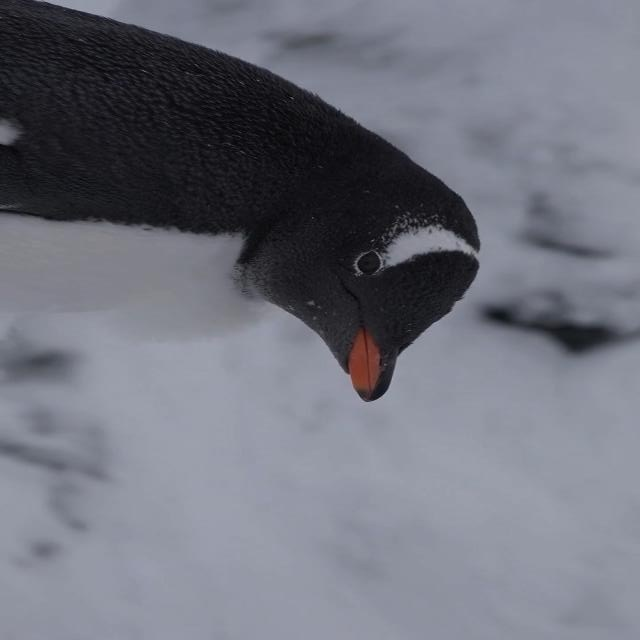penguin: (1, 3, 479, 403)
